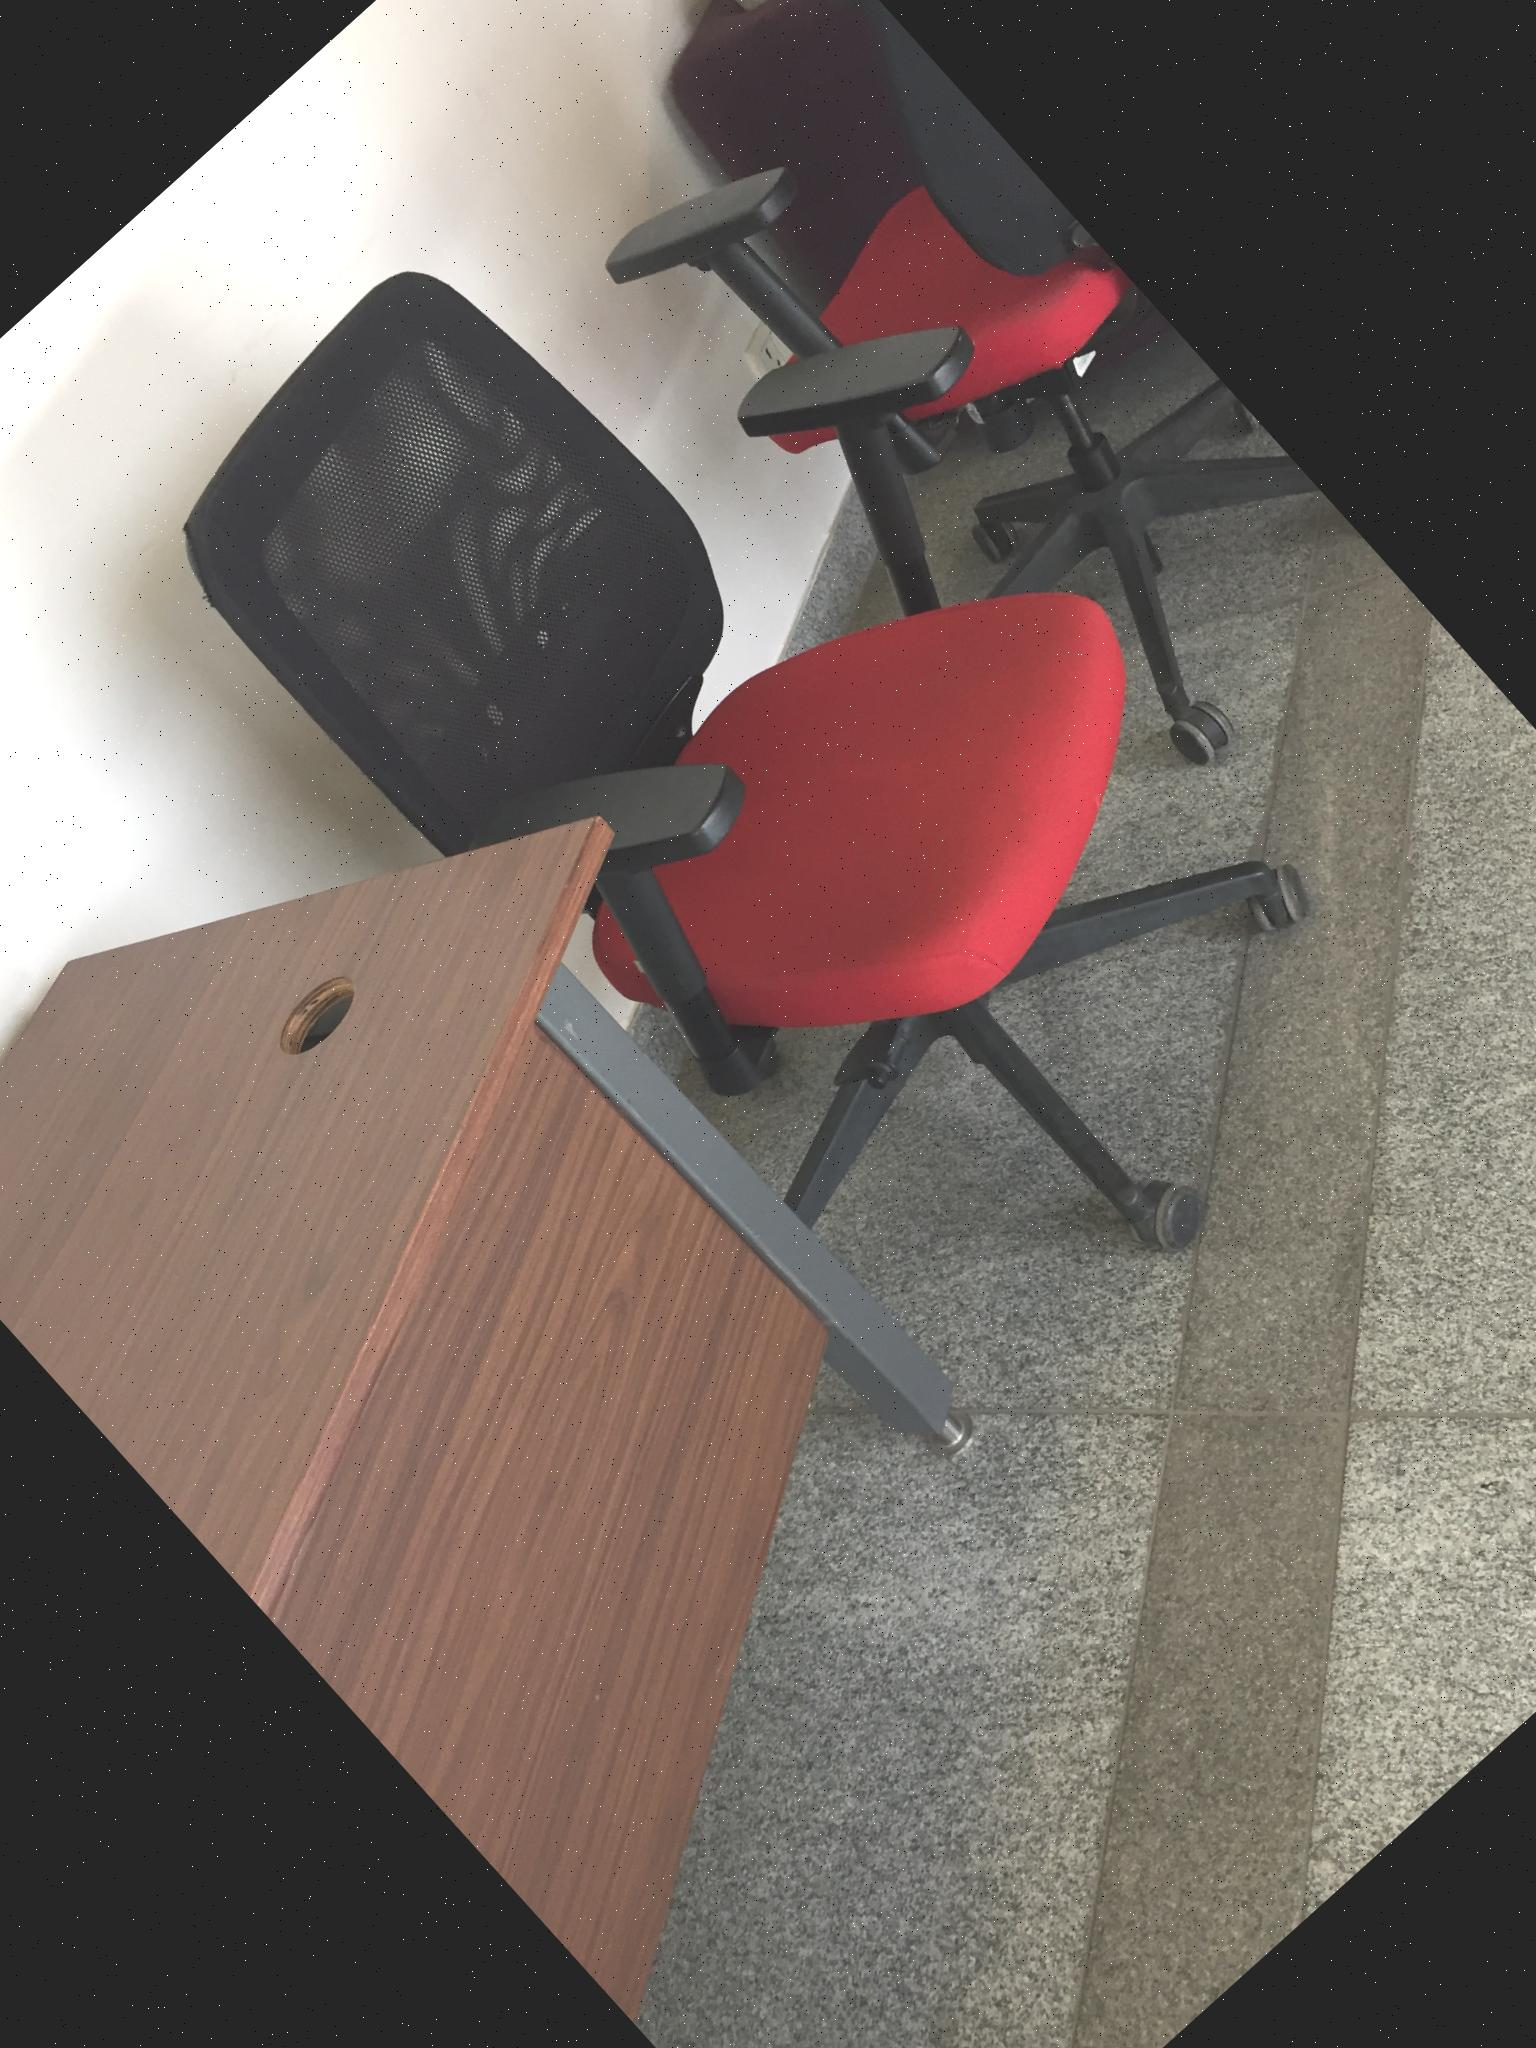chair: (118, 65, 1459, 1448), (503, 0, 1405, 848)
